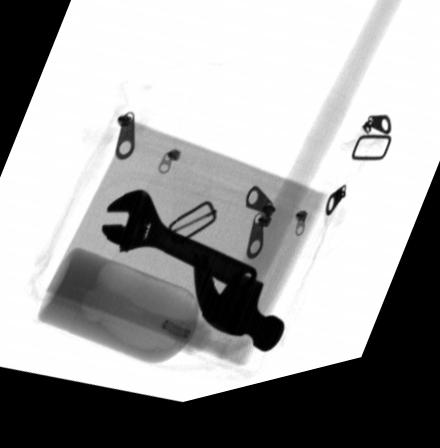Hammer: (192, 0, 415, 366)
Wrench: (101, 196, 258, 303)
